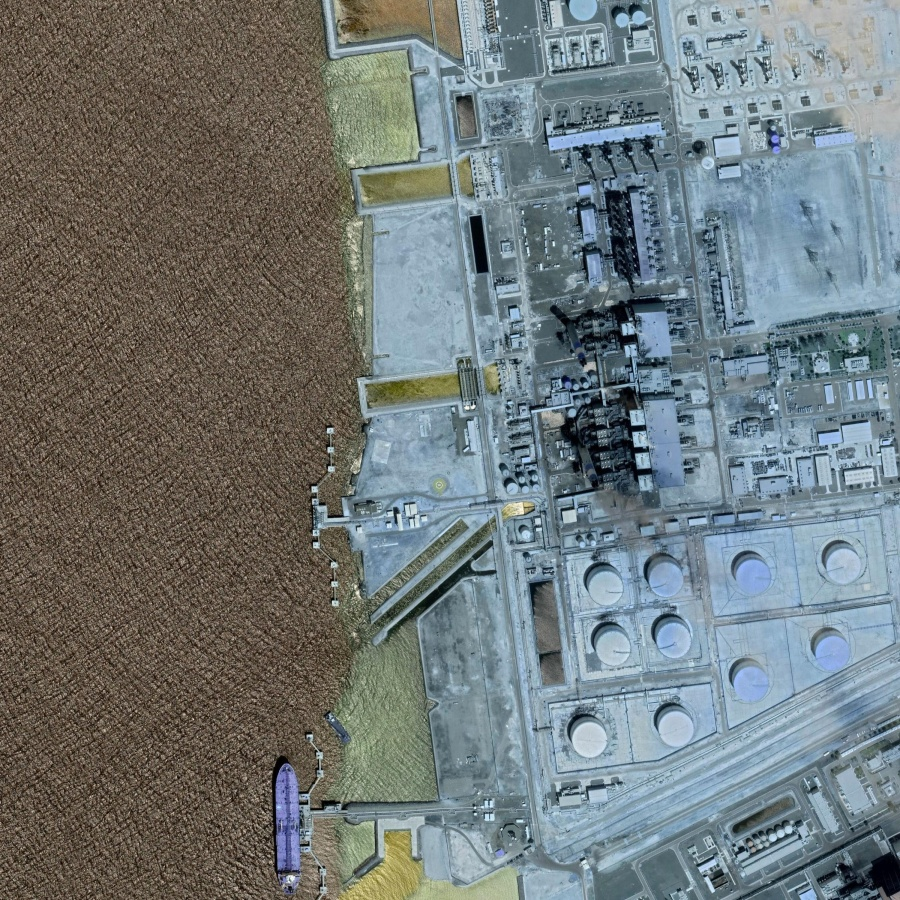PowerPlant: (517, 516, 897, 779), (497, 177, 719, 493)
